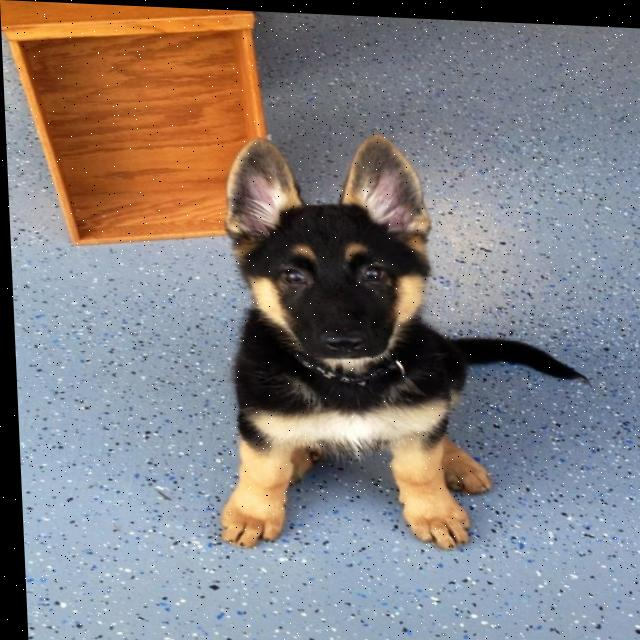GERMAN_SHEPHERD: (172, 106, 595, 574)
